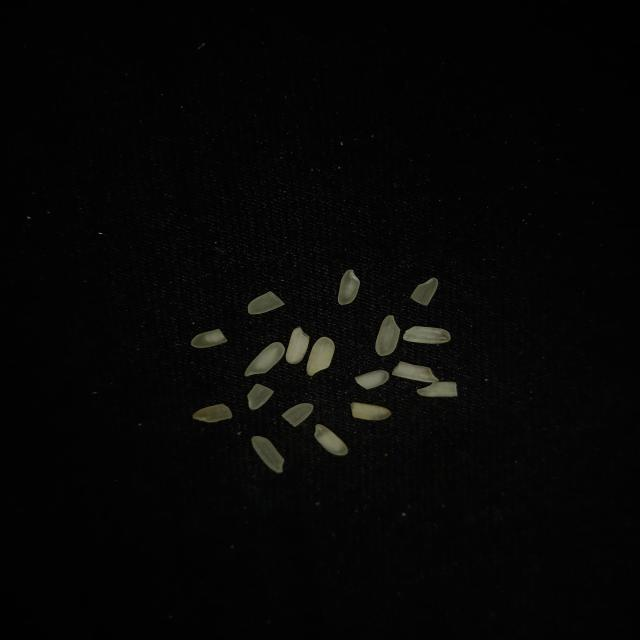Broken: (392, 361, 439, 383), (247, 290, 285, 314), (402, 326, 450, 344), (410, 277, 438, 306), (281, 403, 313, 427), (351, 402, 392, 420), (192, 404, 232, 422), (191, 329, 227, 348), (354, 370, 388, 390), (247, 384, 274, 409), (417, 381, 457, 397)
Full: (244, 342, 284, 377), (251, 436, 285, 473), (306, 337, 334, 376), (314, 424, 348, 456), (375, 315, 400, 356), (286, 326, 310, 364), (338, 269, 360, 305)
